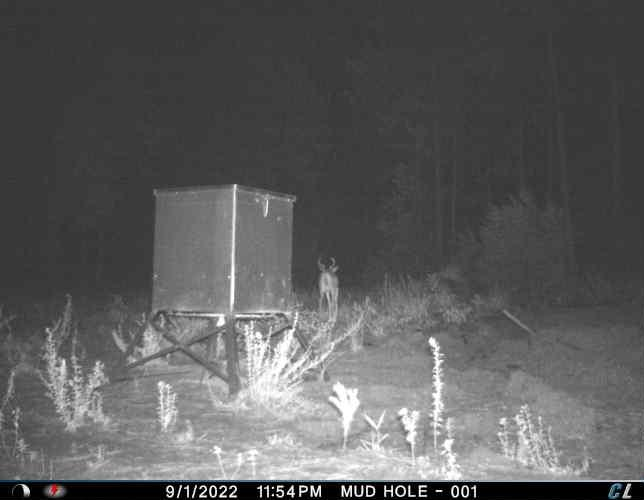Deer: (311, 252, 344, 321)
